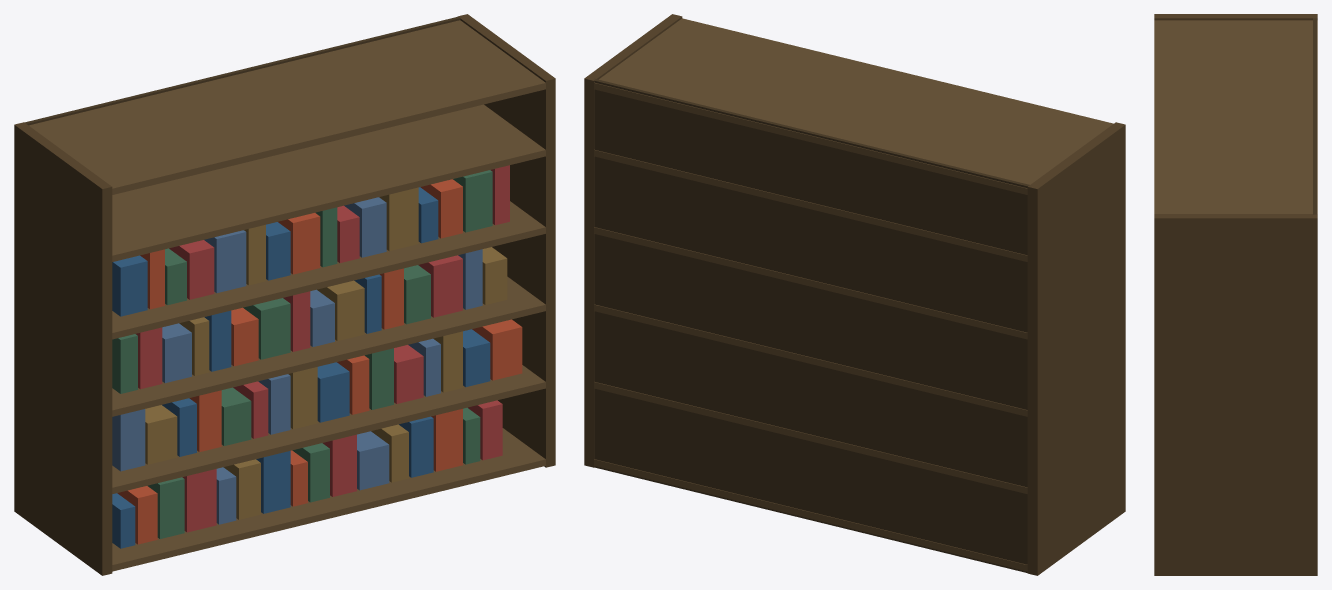
The model's file is bookshelf.glb.
3 renders of one model, left to right at view 1: azimuth 30°, elevation 25°; view 2: azimuth 150°, elevation 25°; view 3: azimuth 270°, elevation 25°, orthographic. The views are drawn at different scales.
Bounding box in the file's own units: 1.84 × 1.5 × 0.62.
